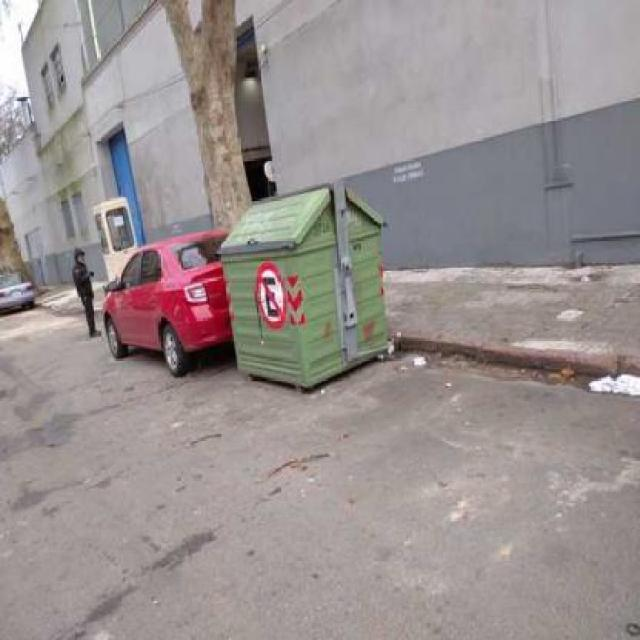garbage: (538, 362, 640, 405), (376, 333, 423, 380)
